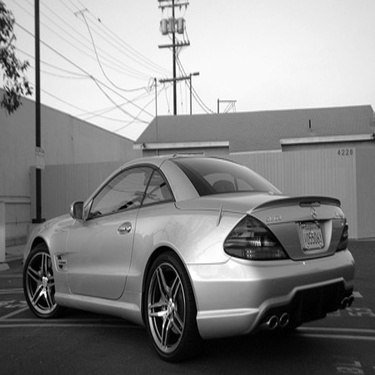car: (19, 142, 359, 360)
